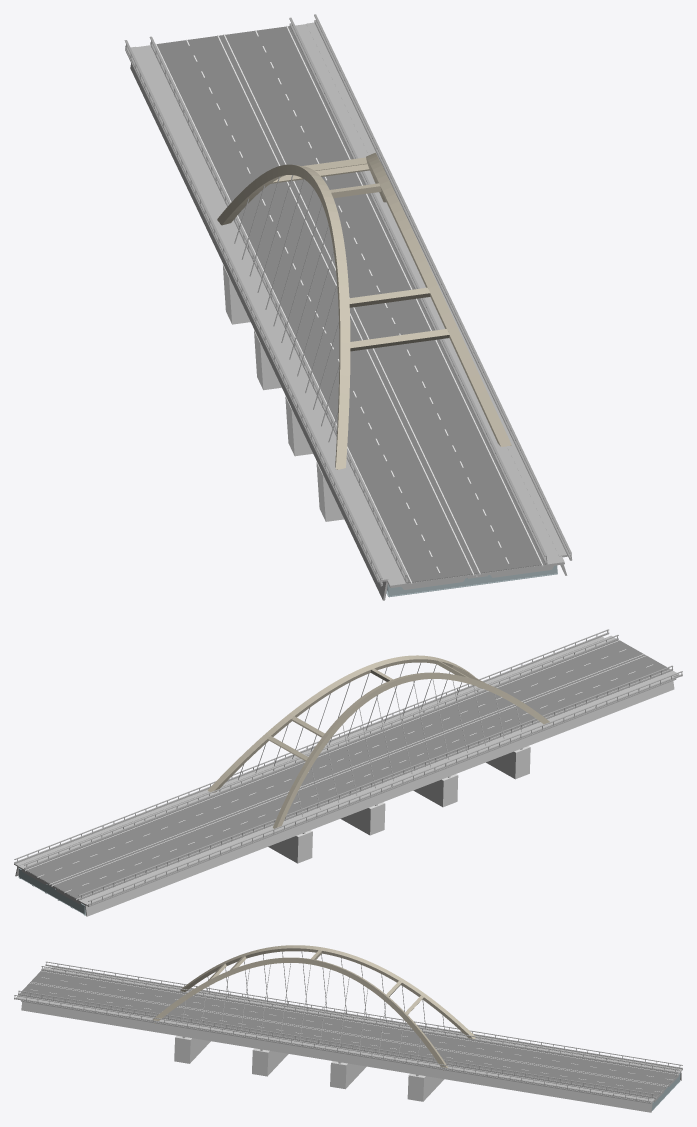
The picture shows the model from 3 angles, top to bottom: view 1: azimuth 30°, elevation 25°; view 2: azimuth 150°, elevation 25°; view 3: azimuth 270°, elevation 25°; orthographic projection. The views are drawn at different scales.
Parts seen in each view (by area): view 1: MOST, dlaM, Loft81, ell01, Loft82, w01, www01, www, w4, dlaM01, T_LineS, PL (+1 smaller); view 2: MOST, dlaM, w01, w4, www, Loft81, www01, ell01, Loft82, dlaM01, T_LineS, Box30 (+5 smaller); view 3: MOST, dlaM01, www01, www, w4, w01, Loft82, Loft81, ell01, dlaM, T_LineS01, Box28 (+4 smaller).
Part boxes in pixels (x1,y1,x2,y2): MOST: [136, 24, 564, 589]; dlaM: [125, 46, 388, 600]; Loft81: [217, 164, 350, 469]; ell01: [155, 25, 543, 583]; Loft82: [366, 152, 511, 446]; w01: [124, 40, 382, 586]; www01: [314, 14, 572, 560]; www: [289, 17, 547, 563]; w4: [149, 36, 407, 582]; dlaM01: [306, 22, 567, 575]; T_LineS: [234, 175, 339, 442]; PL: [386, 565, 557, 597]; MOST: [17, 635, 679, 904]; dlaM: [84, 676, 676, 916]; w01: [88, 671, 682, 905]; w4: [78, 665, 672, 899]; www: [24, 635, 618, 869]; Loft81: [273, 672, 550, 828]; www01: [14, 629, 609, 863]; ell01: [25, 640, 652, 900]; Loft82: [208, 655, 482, 792]; dlaM01: [14, 636, 605, 876]; T_LineS: [297, 679, 521, 816]; Box30: [268, 830, 312, 863]; MOST: [16, 967, 681, 1102]; dlaM01: [21, 998, 652, 1112]; www01: [14, 995, 651, 1102]; www: [18, 990, 655, 1098]; w4: [41, 966, 678, 1073]; w01: [45, 961, 682, 1069]; Loft82: [152, 957, 447, 1070]; Loft81: [180, 945, 475, 1038]; ell01: [29, 971, 678, 1098]; dlaM: [51, 967, 682, 1080]; T_LineS01: [182, 963, 420, 1061]; Box28: [330, 1061, 366, 1089].
Size of the model in its own units: 60.58 by 24.61 by 130.
